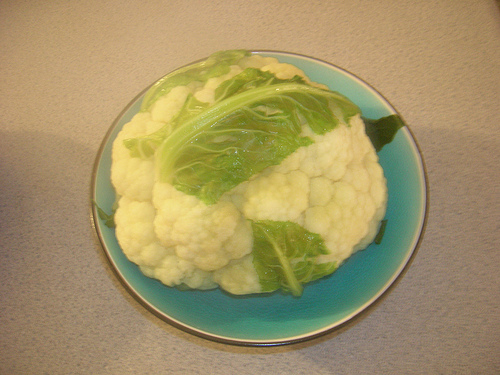cauliflower: (109, 52, 391, 295)
